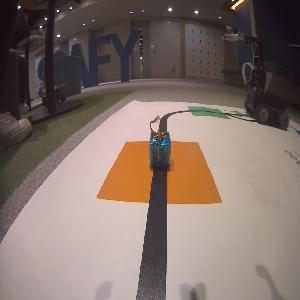box: (149, 133, 172, 166)
